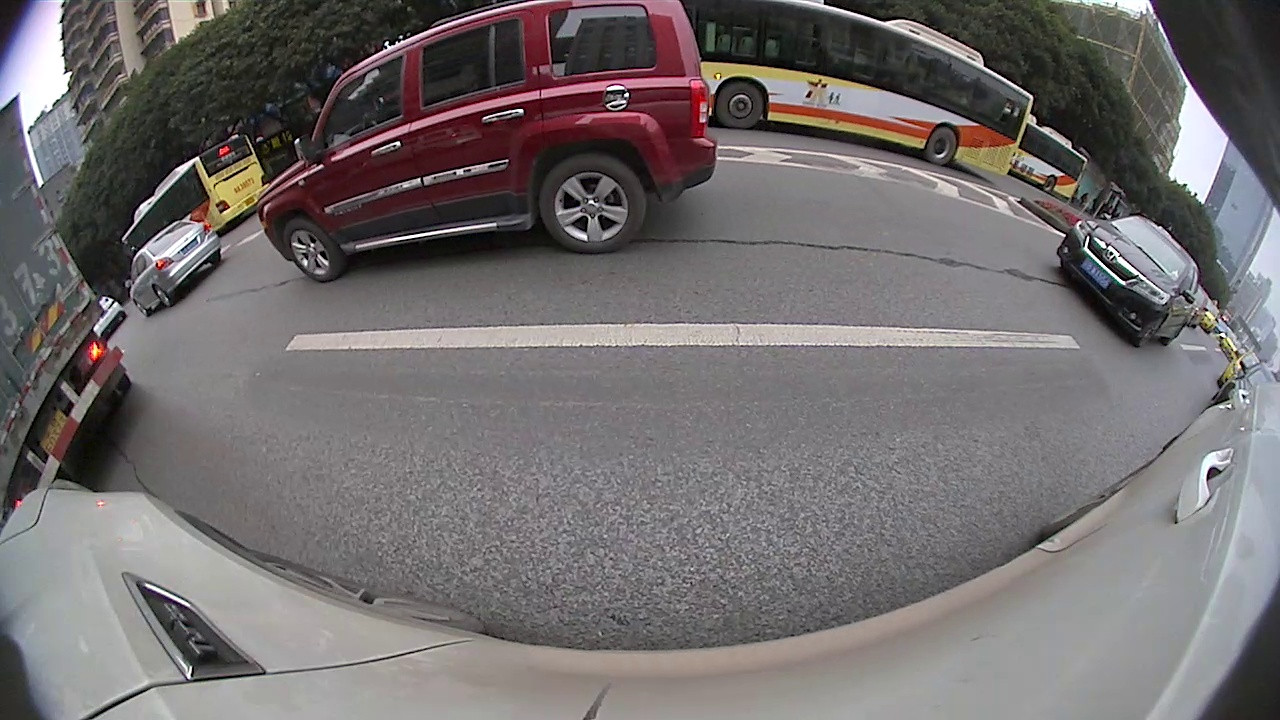bus: (687, 0, 1033, 178), (123, 134, 272, 253), (1012, 120, 1092, 200)
car: (259, 2, 714, 282), (1062, 213, 1197, 348), (128, 221, 226, 319)
front: (283, 217, 346, 282), (719, 79, 764, 129), (1137, 314, 1169, 344), (133, 298, 153, 318)
rear: (535, 157, 648, 250), (929, 122, 955, 166), (150, 283, 175, 310), (1042, 172, 1056, 192)
truck: (0, 93, 130, 506)
